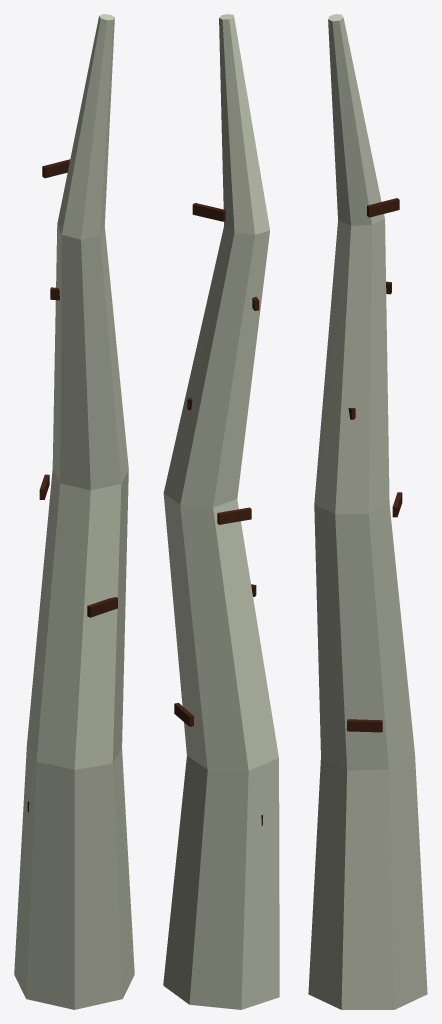
Rendered from N17_Birch_Trunk.fbx.
3 renders of one model, left to right at view 1: azimuth 90°, elevation 25°; view 2: azimuth 210°, elevation 25°; view 3: azimuth 270°, elevation 25°, orthographic. The views are drawn at different scales.
Visible parts, largest first — view 1: N17_Birch_Trunk; view 2: N17_Birch_Trunk; view 3: N17_Birch_Trunk.
Boxes of the visible parts, x1,y1,x2,y2 form: N17_Birch_Trunk: [14, 14, 134, 1009]; N17_Birch_Trunk: [163, 14, 279, 1009]; N17_Birch_Trunk: [308, 14, 427, 1009].
Size of the model in its own units: 0.3609 by 3.31 by 0.3705.
2 materials, 2 textured.
